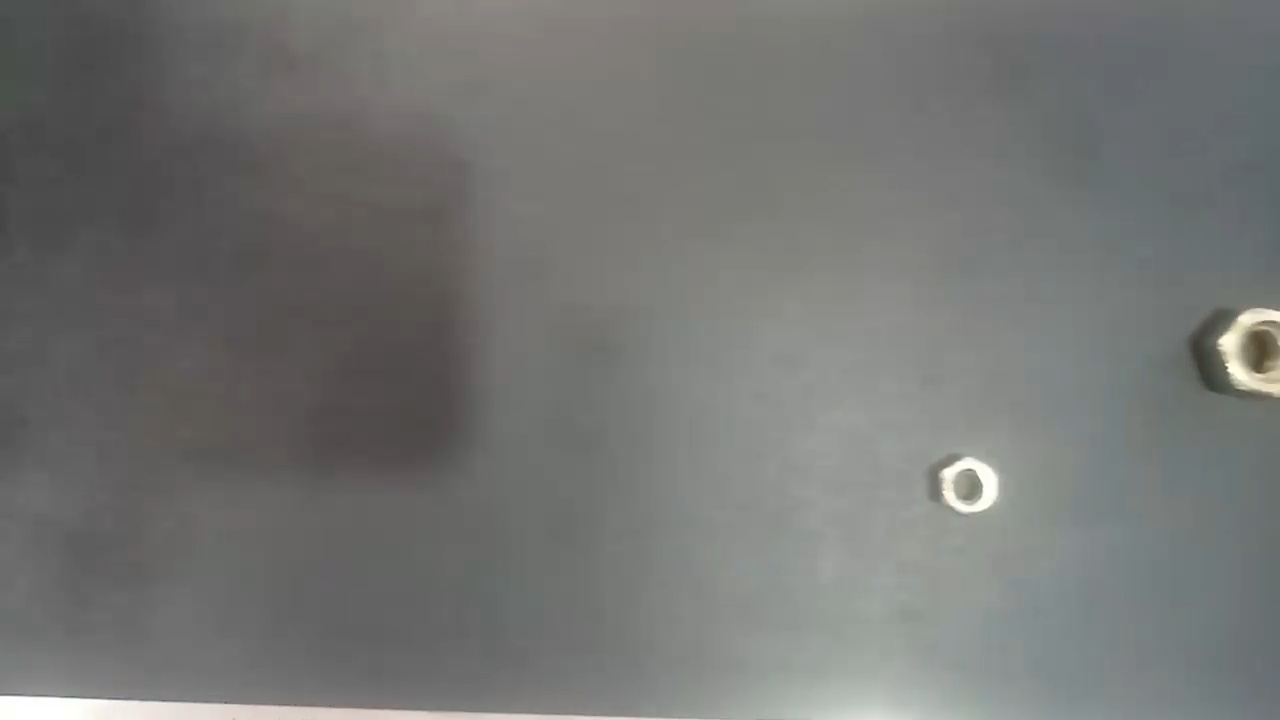Bolt: (936, 454, 1004, 516)
